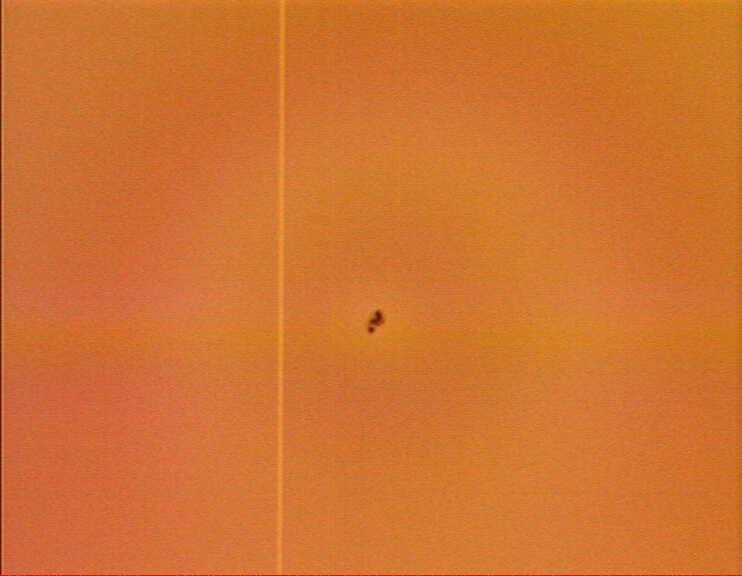PIQ PARTICLE: (359, 305, 395, 341)
